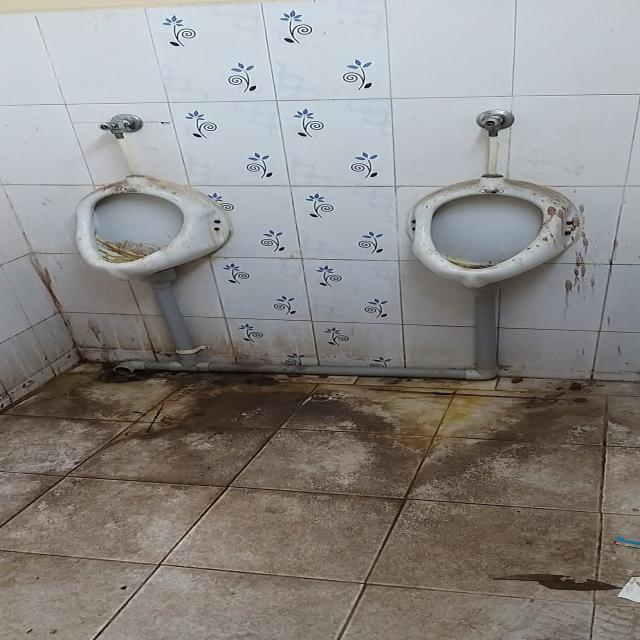dirty_floor: (1, 0, 638, 407), (1, 366, 638, 638), (406, 173, 583, 291), (73, 172, 232, 282), (490, 570, 620, 593), (93, 234, 160, 264)
